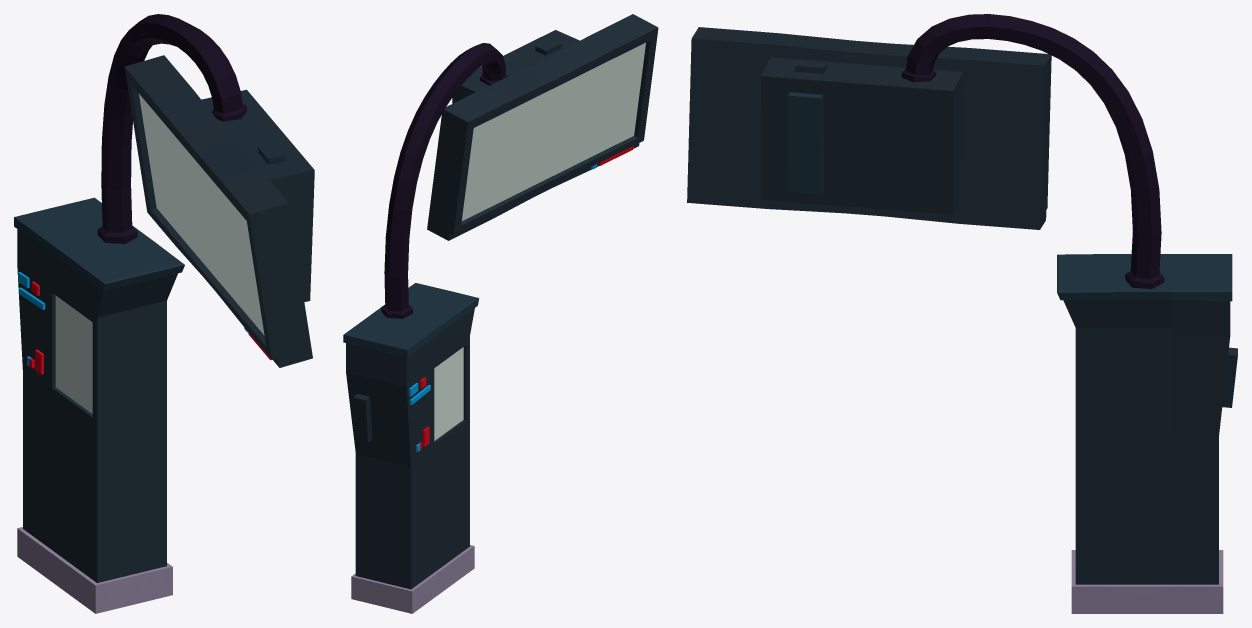
File: Prop_AlleyAdvert.fbx
3 renders of one model, left to right at view 1: azimuth 30°, elevation 25°; view 2: azimuth 150°, elevation 25°; view 3: azimuth 270°, elevation 25°, orthographic. The views are drawn at different scales.
Parts seen in each view (by area): view 1: Cube.047; view 2: Cube.047; view 3: Cube.047.
Boxes of the visible parts, <box> form: Cube.047: <box>14,14,314,613</box>; Cube.047: <box>343,14,658,613</box>; Cube.047: <box>687,14,1237,613</box>.
Bounding box in the file's own units: 63.96 × 288 × 244.
